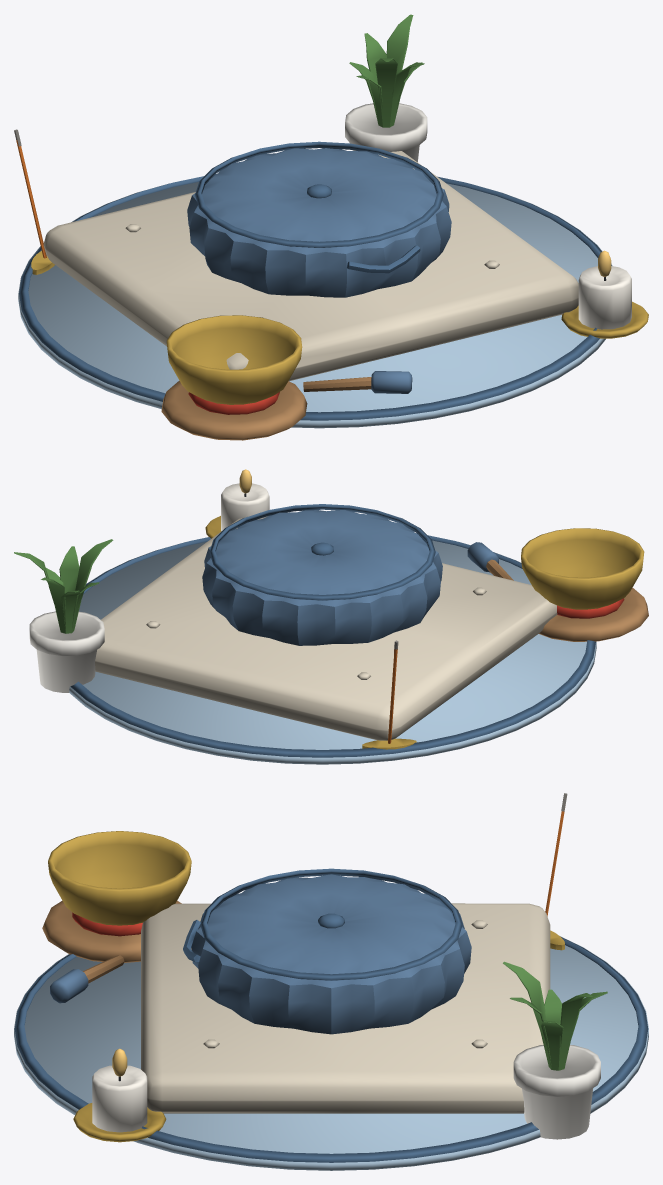
File: coolDownCushion.glb
3 renders of one model, top to bottom at view 1: azimuth 30°, elevation 25°; view 2: azimuth 150°, elevation 25°; view 3: azimuth 270°, elevation 25°, orthographic. The views are drawn at different scales.
Parts seen in each view (by area): view 1: body, zafu; view 2: body, zafu; view 3: body, zafu.
Boxes of the visible parts, bbox=[...] form: body: bbox=[14, 14, 648, 440]; zafu: bbox=[187, 141, 451, 297]; body: bbox=[14, 469, 648, 764]; zafu: bbox=[202, 504, 442, 645]; body: bbox=[14, 793, 648, 1170]; zafu: bbox=[183, 868, 471, 1034].
Size of the model in its own units: 0.9 by 0.2365 by 0.9.
